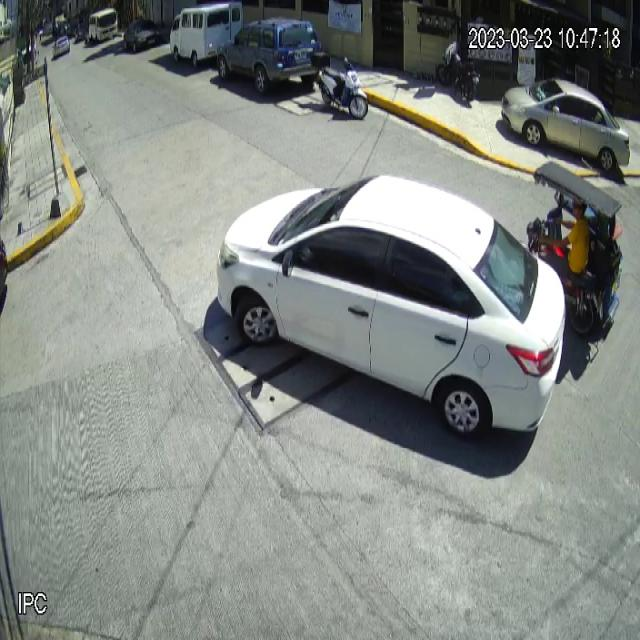Car: (217, 172, 568, 438), (501, 78, 630, 171), (216, 16, 323, 96)
Motorcycle: (312, 54, 368, 120)
Tricycle: (526, 162, 622, 339)
Van: (169, 0, 242, 69)
